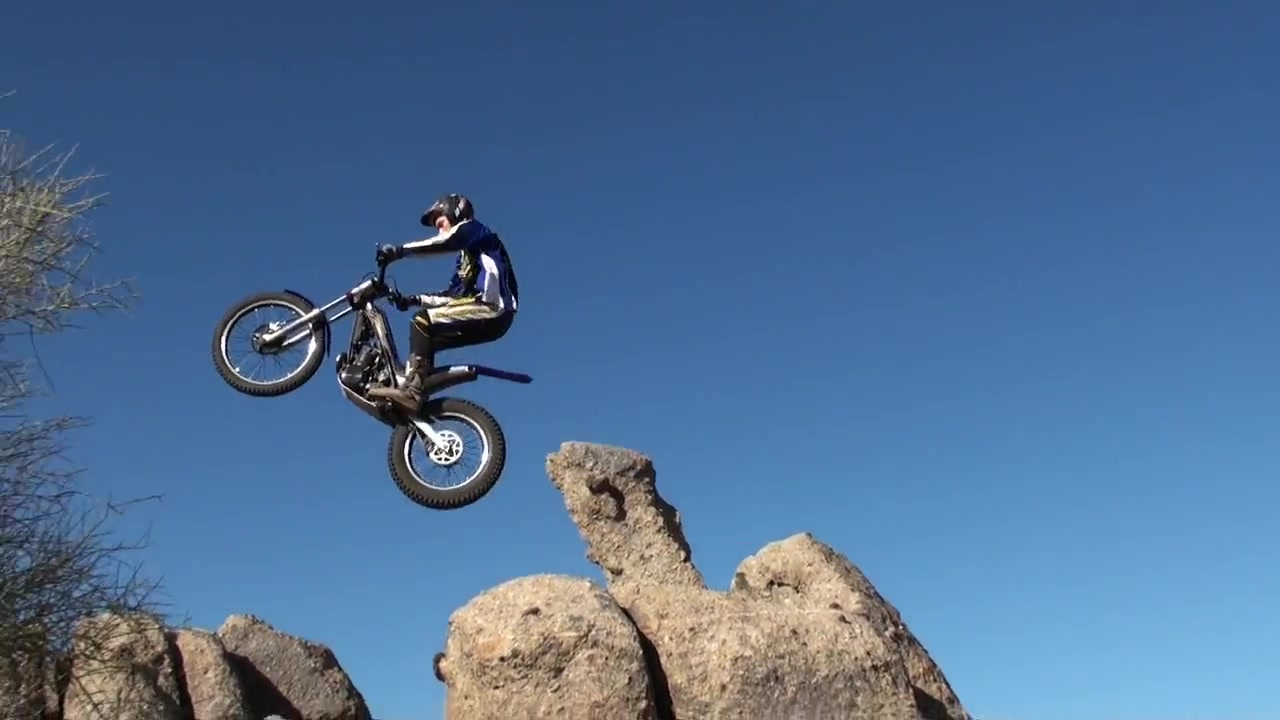motorbike: (210, 239, 537, 516)
